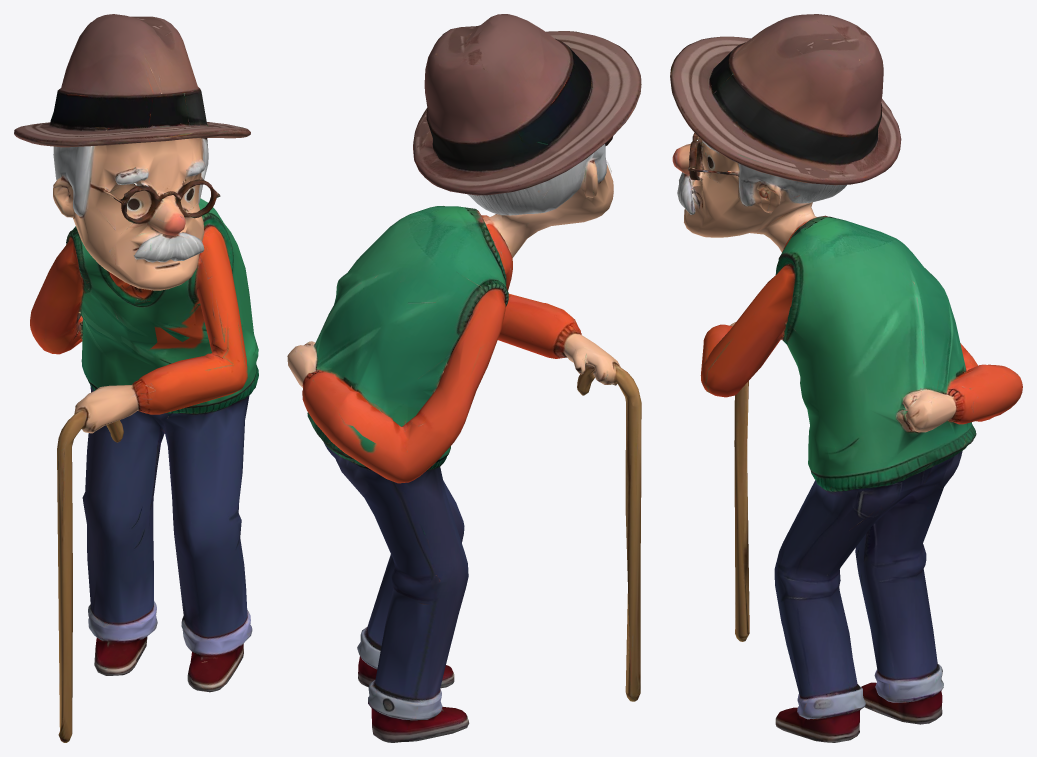
Rendered from old_gentleman.glb.
3 views of the same model, side by side, from view 1: azimuth 30°, elevation 25°; view 2: azimuth 150°, elevation 25°; view 3: azimuth 270°, elevation 25° (orthographic).
Parts seen in each view (by area): view 1: Mesh1.0; view 2: Mesh1.0; view 3: Mesh1.0.
Boxes of the visible parts, x1,y1,x2,y2 form: Mesh1.0: [14, 14, 258, 742]; Mesh1.0: [287, 14, 641, 742]; Mesh1.0: [670, 14, 1022, 742].
Bounding box in the file's own units: 0.7719 × 1.91 × 0.9038.
Materials: 1 (1 with a texture image).
